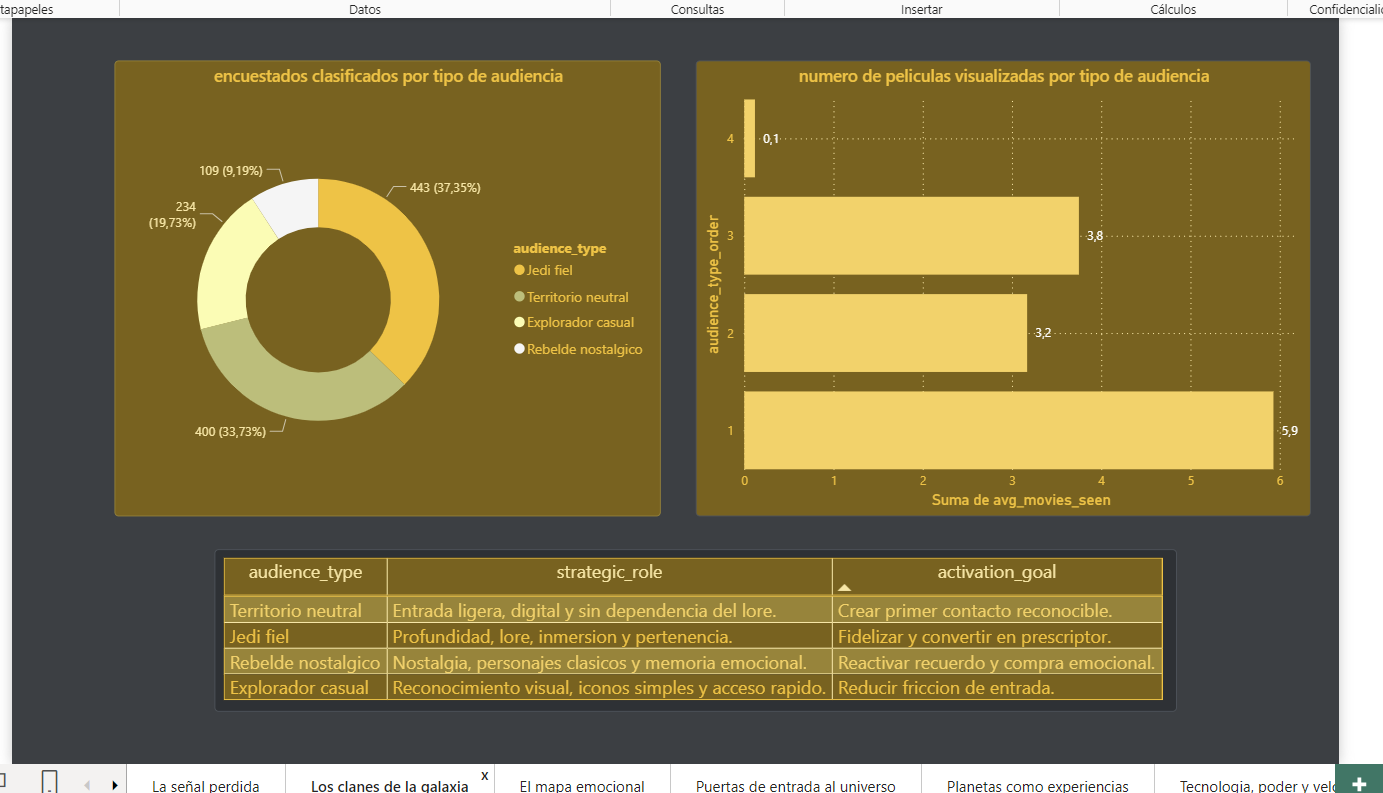

What the dashboard file says about the page in this screenshot:
{"tool":"powerbi","page":{"name":"Los clanes de la galaxia","canvas":[1280,720],"ordinal":1},"visuals":[{"type":"donutChart","title":"encuestados clasificados por tipo de audiencia","fields":{"Category":["strategy_audience_segments.audience_type"],"Y":["Sum(strategy_audience_segments.respondents)"]},"box":[98.9,41,527.2,440.4],"z":0},{"type":"barChart","title":"numero de peliculas visualizadas por tipo de audiencia","fields":{"Category":["strategy_audience_segments.audience_type_order"],"Y":["Sum(strategy_audience_segments.avg_movies_seen)"]},"box":[659.9,41,593.6,440.4],"z":1000},{"type":"tableEx","fields":{"Values":["strategy_audience_segments.audience_type","strategy_audience_segments.strategic_role","strategy_audience_segments.activation_goal"]},"box":[195.4,512.7,929,156.8],"z":2000}]}

Visuals, with their boxes on the page's 1280x720 design canvas (x1, y1, x2, y2). These are canvas units, not pixel positions in the 1383x793 screenshot, which may show the page scaled, cropped or inside an application window:
"encuestados clasificados por tipo de audiencia" donutChart: (99,41,626,481)
"numero de peliculas visualizadas por tipo de audiencia" barChart: (660,41,1254,481)
tableEx - strategy_audience_segments.audience_type x strategy_audience_segments.strategic_role: (195,513,1124,670)
